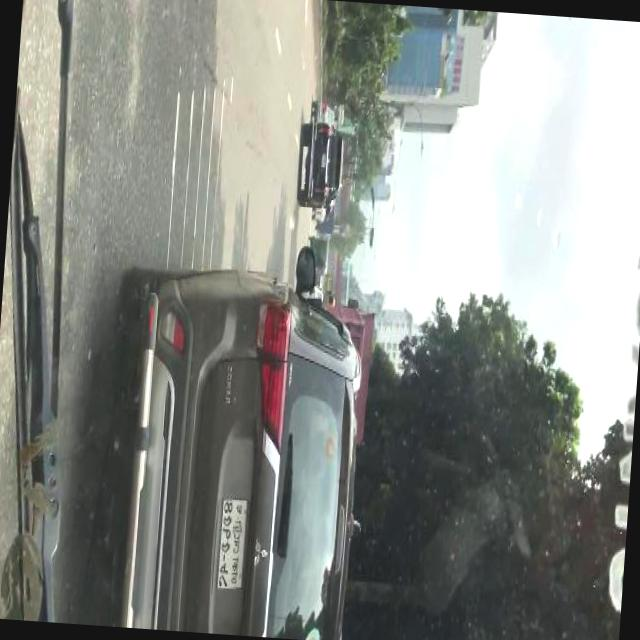car: (101, 232, 386, 640), (293, 119, 345, 218), (309, 98, 336, 126)
motorcycle: (314, 240, 328, 270)
